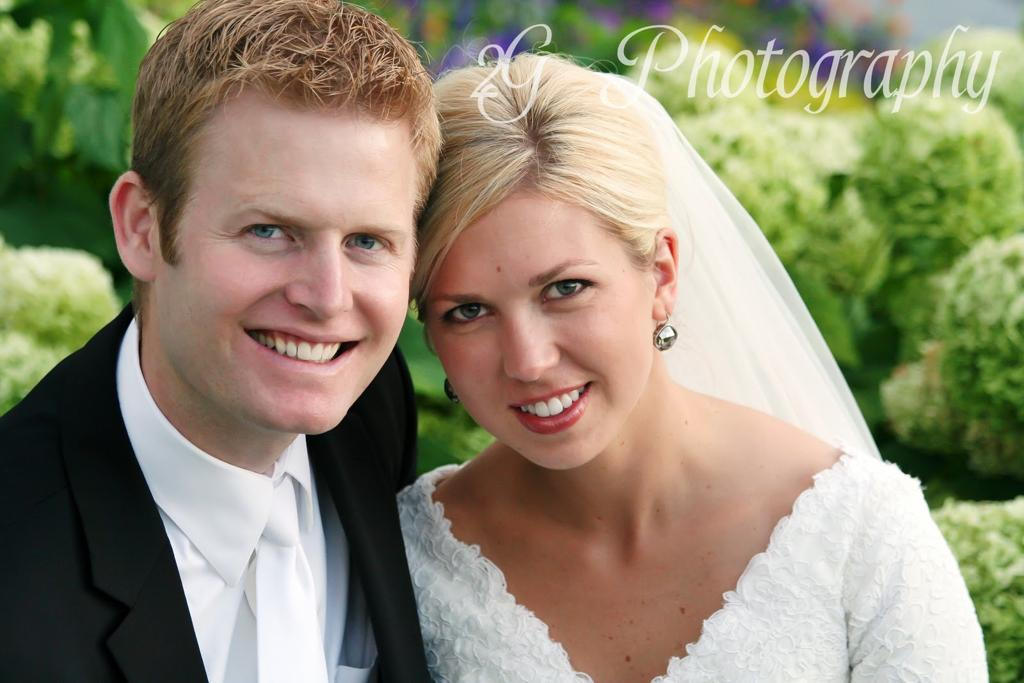face: (170, 94, 408, 436), (424, 206, 642, 474)
